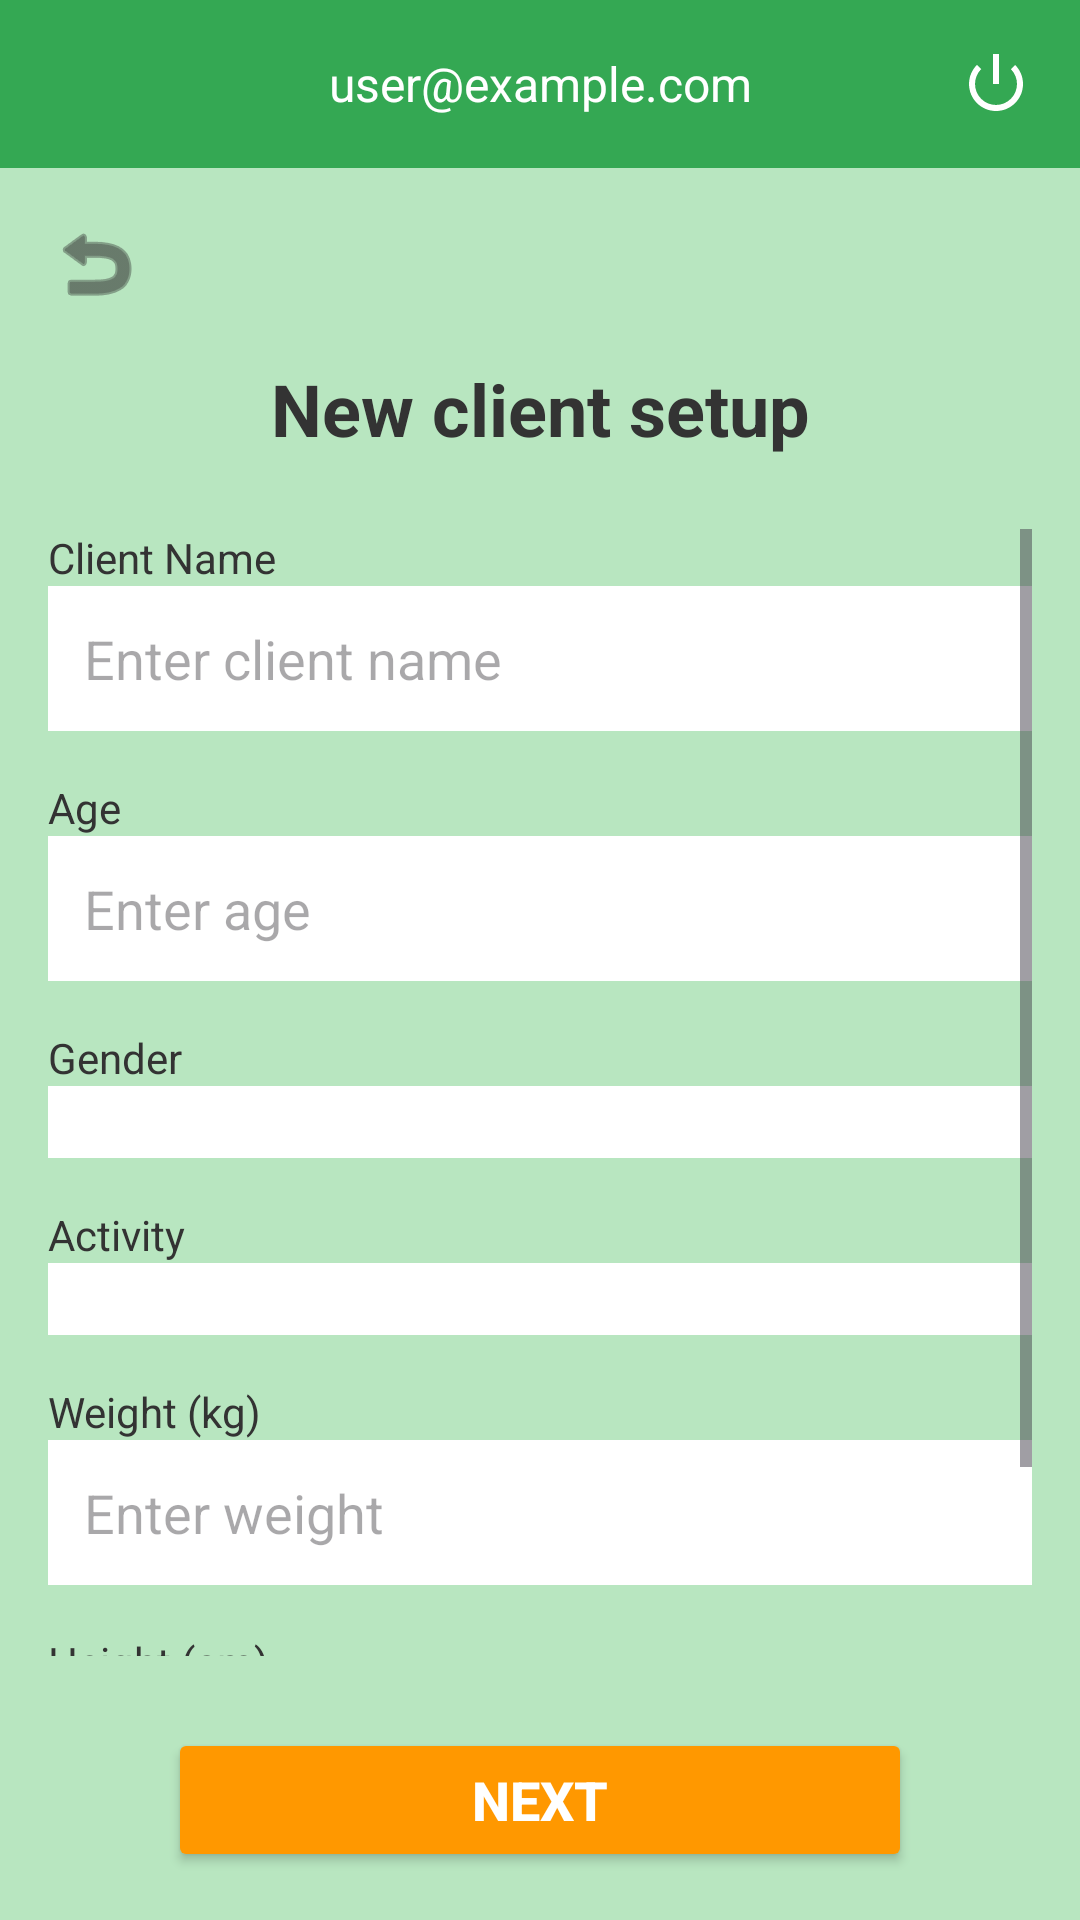

Point at icon controls on the screen. Image size 1080 x 1920, points as (x=x, y=y).
Back: (x=97, y=264)
